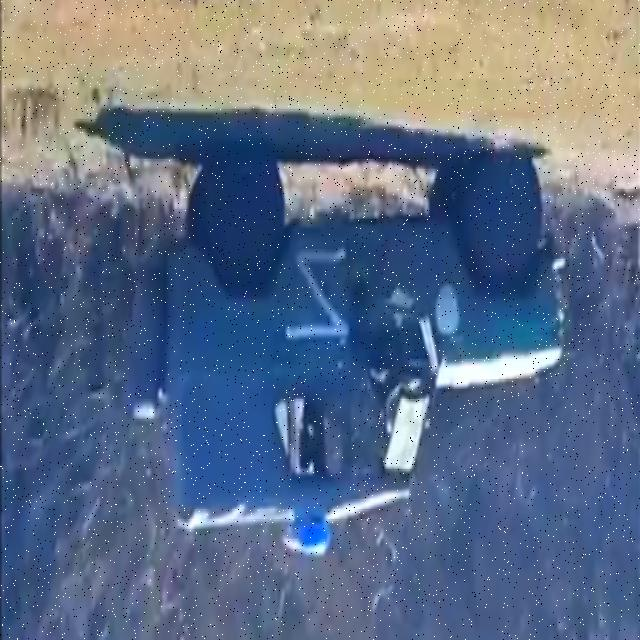CAR: (120, 138, 572, 564)
